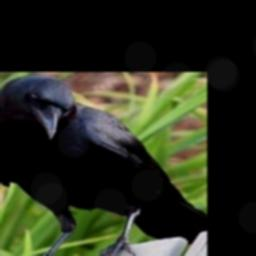Crow: (0, 75, 206, 256)
